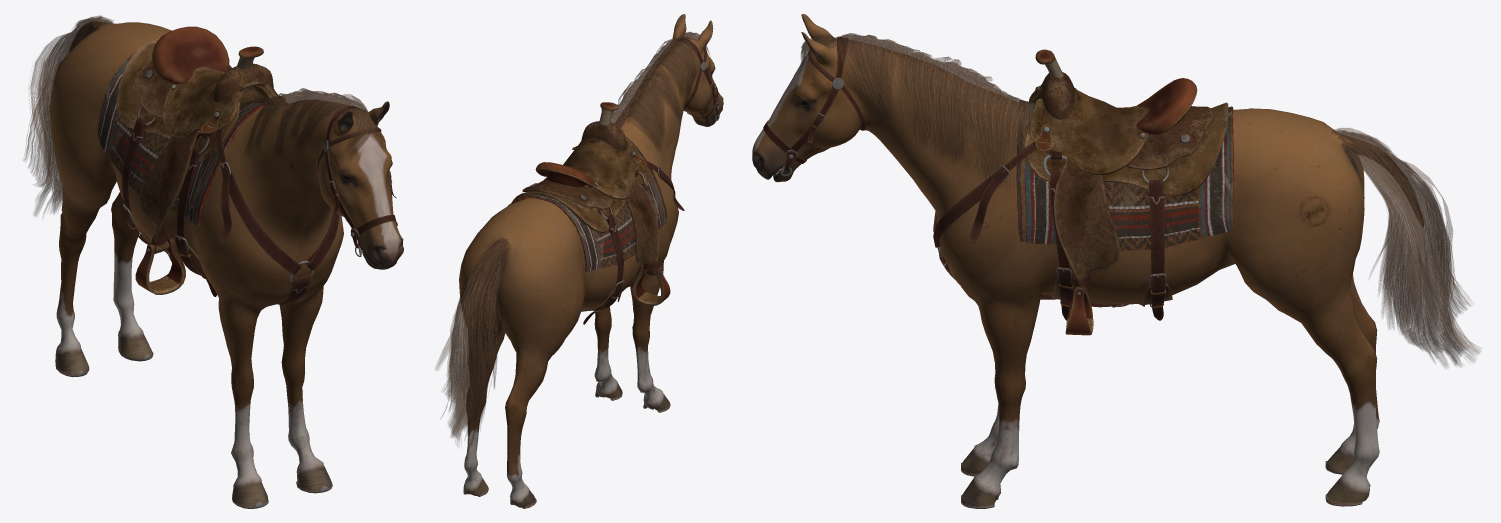
File: 动物_Wild West Horse_opt.glb
The picture shows the model from 3 angles, left to right: view 1: azimuth 30°, elevation 25°; view 2: azimuth 150°, elevation 25°; view 3: azimuth 270°, elevation 25°; orthographic projection. The views are drawn at different scales.
Parts seen in each view (by area): view 1: Horse001_Horse_0, Horse_Outfit001_Horse_Outfit_0, Horse001_Horse_Hair_0; view 2: Horse001_Horse_0, Horse_Outfit001_Horse_Outfit_0, Horse001_Horse_Hair_0; view 3: Horse001_Horse_0, Horse_Outfit001_Horse_Outfit_0, Horse001_Horse_Hair_0.
Part boxes in pixels (box(x1,y1,x2,y2)): Horse001_Horse_0: box(49, 22, 403, 508); Horse_Outfit001_Horse_Outfit_0: box(97, 26, 397, 304); Horse001_Horse_Hair_0: box(24, 15, 383, 216); Horse001_Horse_0: box(459, 14, 723, 508); Horse_Outfit001_Horse_Outfit_0: box(508, 38, 719, 324); Horse001_Horse_Hair_0: box(435, 31, 709, 449); Horse001_Horse_0: box(752, 14, 1423, 508); Horse_Outfit001_Horse_Outfit_0: box(763, 36, 1234, 335); Horse001_Horse_Hair_0: box(799, 33, 1481, 368).
Size of the model in its own units: 0.3492 by 0.8 by 1.15.
3 materials, 3 textured.
